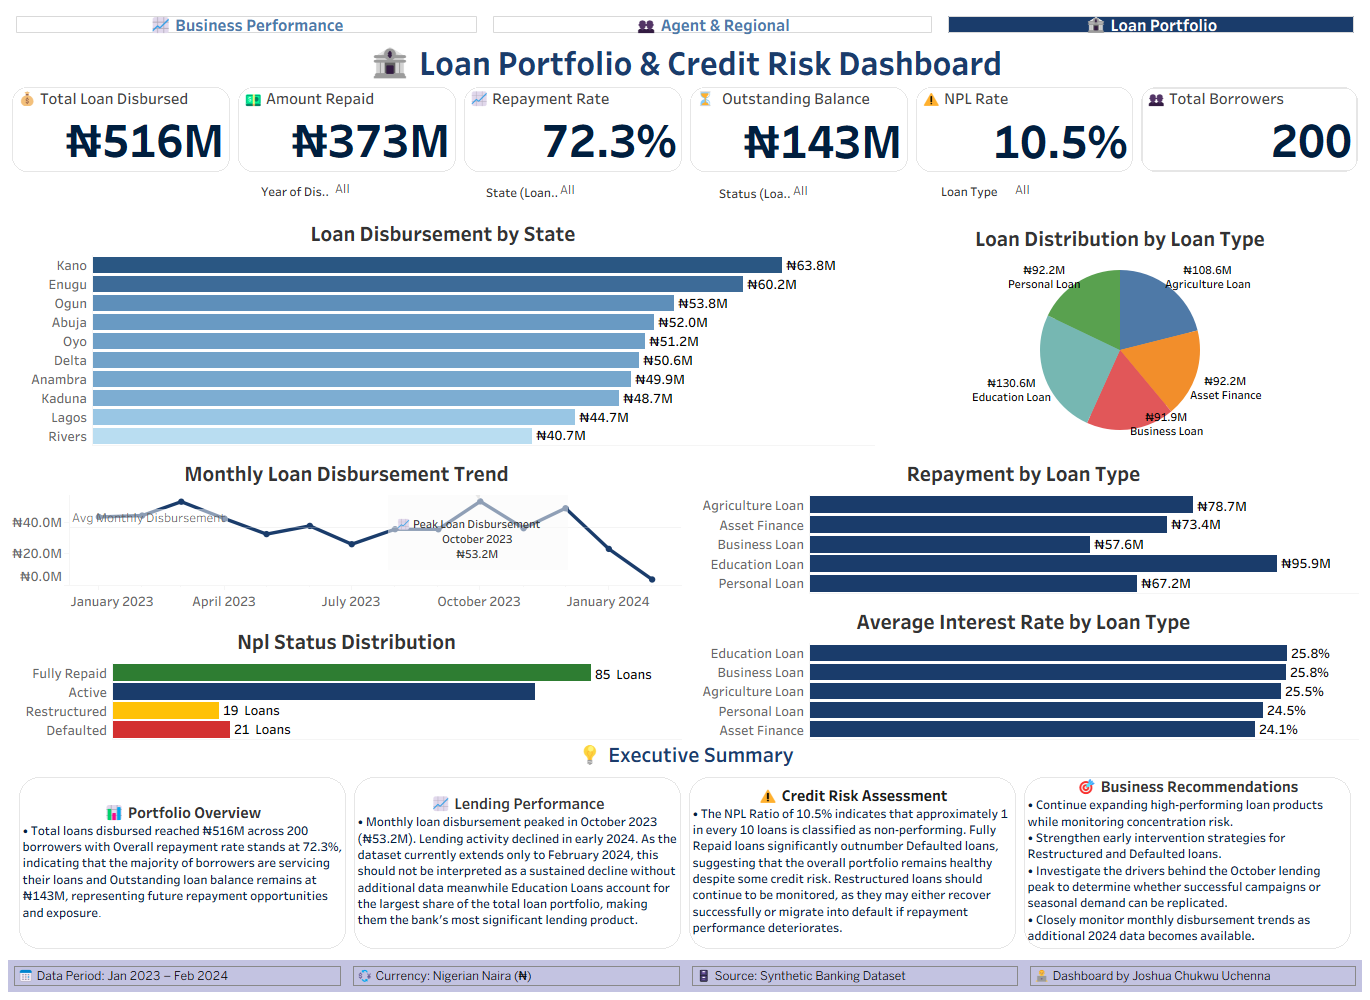

Layout of this report page (visuals, bound fields, positions):
{"tool":"tableau","page":{"name":"Loan Portfolio & Credit Risk Dashboard","canvas":[1370,1000],"ordinal":3},"visuals":[{"type":"dashboard-object","box":[8,8,477,33]},{"type":"dashboard-object","box":[485,8,455,33]},{"type":"dashboard-object","box":[940,8,422,33]},{"type":"text","box":[8,41,1354,42]},{"type":"worksheet","title":"KPI - Total Loan Disbursed ","mark":"Automatic","box":[8,83,226,93]},{"type":"worksheet","title":"KPI - Amount Repaid","mark":"Automatic","box":[234,83,226,93]},{"type":"worksheet","title":"KPI - Repayment Rate","mark":"Automatic","box":[460,83,226,93]},{"type":"worksheet","title":"KPI - Outstanding Balance","mark":"Automatic","box":[686,83,226,93]},{"type":"worksheet","title":"KPI - NPL RATE","mark":"Automatic","box":[912,83,225,93]},{"type":"worksheet","title":"KPI - Total Borrowers","mark":"Automatic","box":[1137,83,225,93]},{"type":"filter","title":"Loan Disbursement by State","param":"[federated.0p7jy2t1e3he691fx9l5j1cicvz7].[yr:Disbursement_Date:ok]","box":[261,180,172,22]},{"type":"filter","title":"Loan Disbursement by State","param":"[federated.0p7jy2t1e3he691fx9l5j1cicvz7].[none:State (Loan!Portfolio):nk]","box":[486,181,168,22]},{"type":"filter","title":"Loan Disbursement by State","param":"[federated.0p7jy2t1e3he691fx9l5j1cicvz7].[none:Loan_Type:nk]","box":[941,181,168,21]},{"type":"filter","title":"Loan Disbursement by State","param":"[federated.0p7jy2t1e3he691fx9l5j1cicvz7].[none:Status (Loan!Portfolio):nk]","box":[719,182,168,22]},{"type":"worksheet","title":"Loan Disbursement by State","mark":"Automatic","rows":["State (Loan!Portfolio)"],"cols":["Principal_NGN"],"box":[8,208.8,870,239.8]},{"type":"worksheet","title":"Loan Portfolio Distribution by Loan Typ","mark":"Pie","cols":["Calculation_0613007741898758","Calculation_0613007741898758"],"box":[883,213.8,474,229.8]},{"type":"worksheet","title":"Monthly Loan Disbursement Trend","mark":"Line","rows":["Principal_NGN"],"cols":["Disbursement_Date"],"box":[8,448.6,677,168.4]},{"type":"worksheet","title":"Repayment by Loan Type","mark":"Automatic","rows":["Loan_Type"],"cols":["Amount_Repaid_NGN"],"box":[685,448.6,677,147.9]},{"type":"worksheet","title":"Average Interest Rate by Loan Type","mark":"Automatic","rows":["Loan_Type"],"cols":["Interest_Rate_Percent"],"box":[685,596.5,677,146.1]},{"type":"worksheet","title":"NPL Status Distribution","mark":"Automatic","rows":["Status (Loan!Portfolio)"],"cols":["Loan_ID"],"box":[8,617,677,125.6]},{"type":"text","box":[8,742.6,1354,23.6]},{"type":"text","box":[15,773,335,180]},{"type":"text","box":[350,773,335,180]},{"type":"text","box":[685,773,335,180]},{"type":"text","box":[1020,773,335,180]},{"type":"text","box":[8,960,339,32]},{"type":"text","box":[347,960,339,32]},{"type":"text","box":[686,960,338,32]},{"type":"text","box":[1024,960,338,32]}]}

Visuals, with their boxes in screenshot pixels (x1, y1, x2, y2), scaled from the page's 1370x1000 canvas onto the 1370x1000 screenshot:
dashboard-object: bbox=(8, 8, 485, 41)
dashboard-object: bbox=(485, 8, 940, 41)
dashboard-object: bbox=(940, 8, 1362, 41)
text: bbox=(8, 41, 1362, 83)
"KPI - Total Loan Disbursed " worksheet: bbox=(8, 83, 234, 176)
"KPI - Amount Repaid" worksheet: bbox=(234, 83, 460, 176)
"KPI - Repayment Rate" worksheet: bbox=(460, 83, 686, 176)
"KPI - Outstanding Balance" worksheet: bbox=(686, 83, 912, 176)
"KPI - NPL RATE" worksheet: bbox=(912, 83, 1137, 176)
"KPI - Total Borrowers" worksheet: bbox=(1137, 83, 1362, 176)
"Loan Disbursement by State" filter: bbox=(261, 180, 433, 202)
"Loan Disbursement by State" filter: bbox=(486, 181, 654, 203)
"Loan Disbursement by State" filter: bbox=(941, 181, 1109, 202)
"Loan Disbursement by State" filter: bbox=(719, 182, 887, 204)
"Loan Disbursement by State" worksheet: bbox=(8, 209, 878, 449)
"Loan Portfolio Distribution by Loan Typ" worksheet (Pie marks): bbox=(883, 214, 1357, 444)
"Monthly Loan Disbursement Trend" worksheet (Line marks): bbox=(8, 449, 685, 617)
"Repayment by Loan Type" worksheet: bbox=(685, 449, 1362, 596)
"Average Interest Rate by Loan Type" worksheet: bbox=(685, 596, 1362, 743)
"NPL Status Distribution" worksheet: bbox=(8, 617, 685, 743)
text: bbox=(8, 743, 1362, 766)
text: bbox=(15, 773, 350, 953)
text: bbox=(350, 773, 685, 953)
text: bbox=(685, 773, 1020, 953)
text: bbox=(1020, 773, 1355, 953)
text: bbox=(8, 960, 347, 992)
text: bbox=(347, 960, 686, 992)
text: bbox=(686, 960, 1024, 992)
text: bbox=(1024, 960, 1362, 992)
